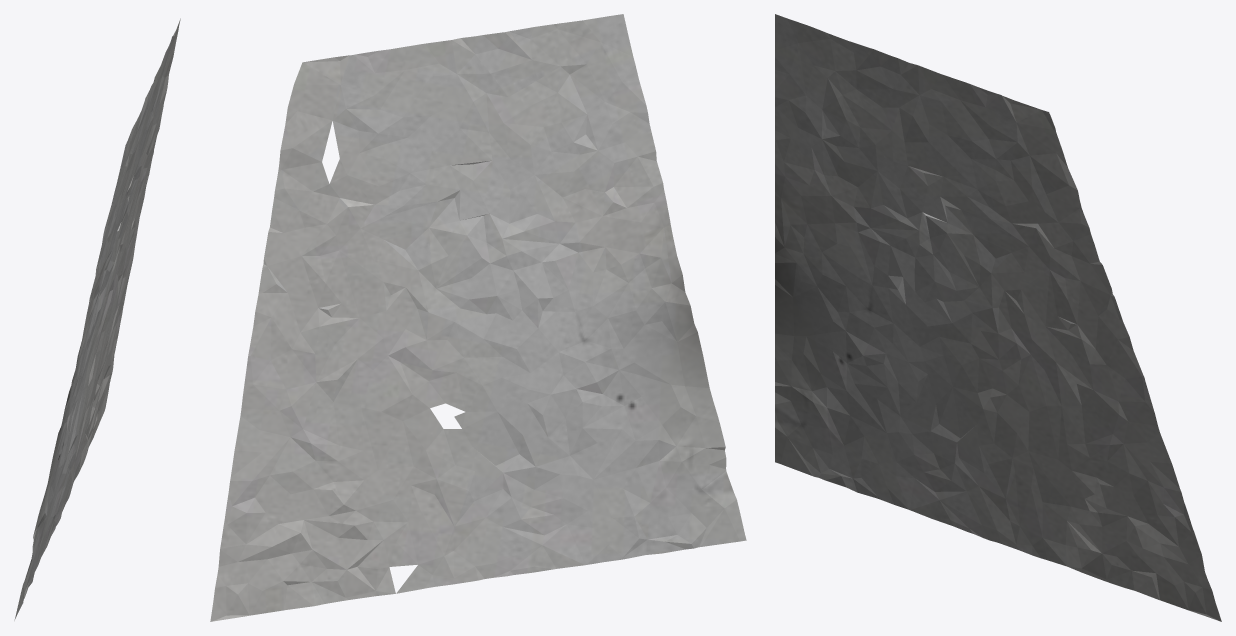
3 renders of one model, left to right at view 1: azimuth 30°, elevation 25°; view 2: azimuth 150°, elevation 25°; view 3: azimuth 270°, elevation 25°, orthographic. The views are drawn at different scales.
Bounding box in the file's own units: 0.5625 × 0.8374 × 0.6651.
2 materials, 2 textured.
